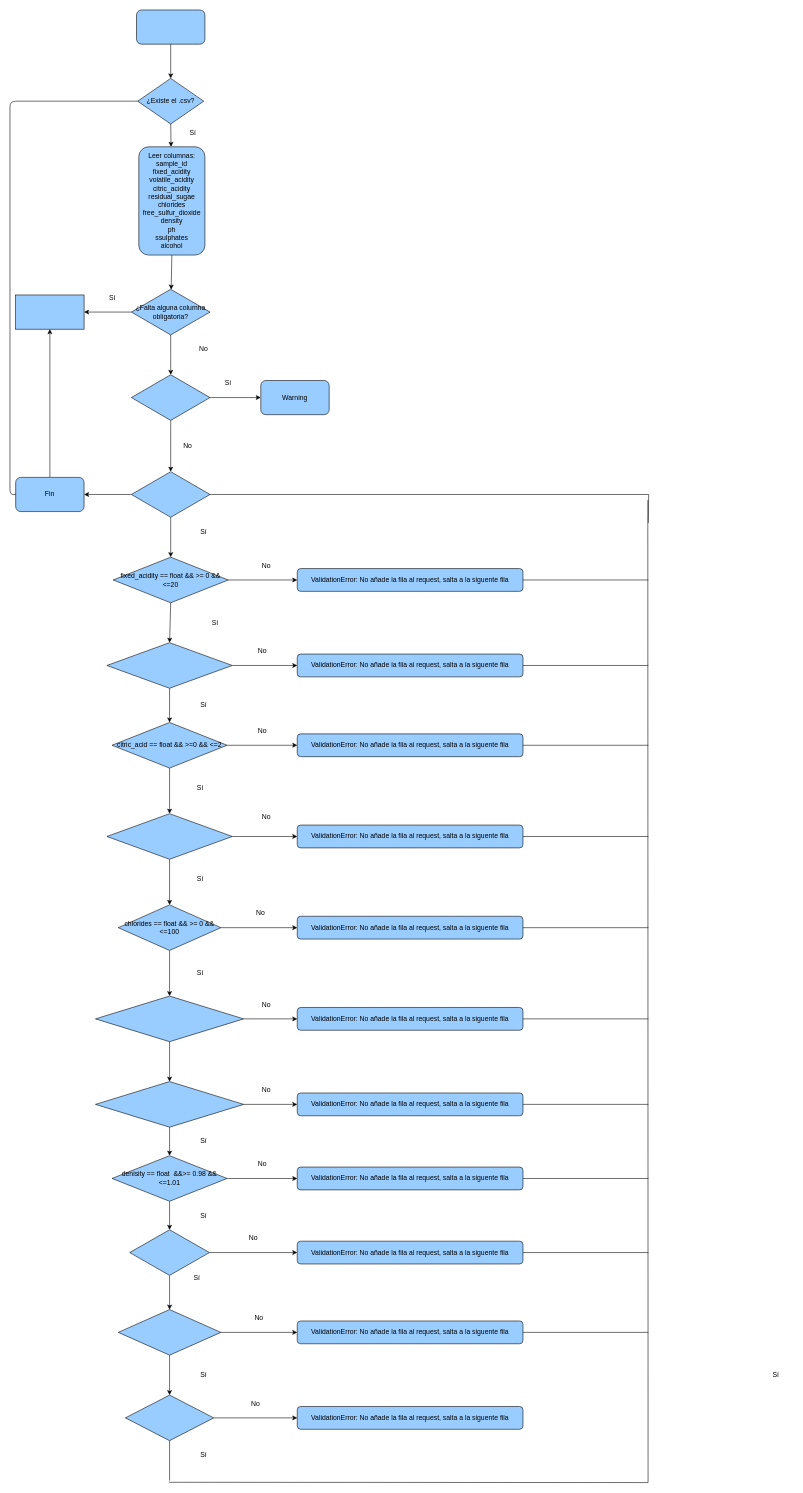
The diagram is 803 pixels wide and 1493 high, and some of its shapes have lost their labels. Each missing label, with the centre of its shape:
"alcohol == float &&>=5 && <=20" belongs at point 169,1418.
"Falta alguna fila por comprobar" belongs at point 170,494.
"free_sulfur_dioxide == float && >= 0 && <=300''" belongs at point 169,1019.
"Leer el .csv" belongs at point 170,26.
"ph == float && >= 2.5 && <=4.5" belongs at point 169,1252.
"residual_sugar == float && >=0 && <= 20" belongs at point 169,836.
"sulphates == float &&>= 0 &&<=3" belongs at point 169,1332.
"total_sulfur_dioxide == float && >= 0 && <=300''" belongs at point 169,1104.
"ValueError. Faltan columnas obligatorias" belongs at point 49,311.
"volatile_acidity == float && >= 0 && <=2" belongs at point 169,665.
"¿Hay alguna columna de más ?" belongs at point 170,397.
